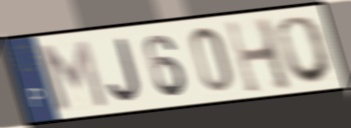0: (189, 24, 237, 96)
6: (143, 33, 189, 98)
H: (222, 15, 296, 97)
J: (105, 35, 143, 104)
M: (34, 37, 111, 113)
O: (275, 14, 337, 86)
